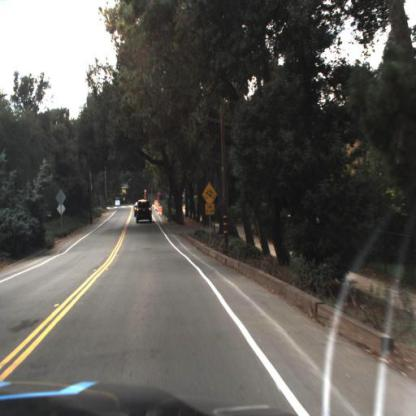car: (134, 198, 155, 228), (133, 200, 140, 220)
